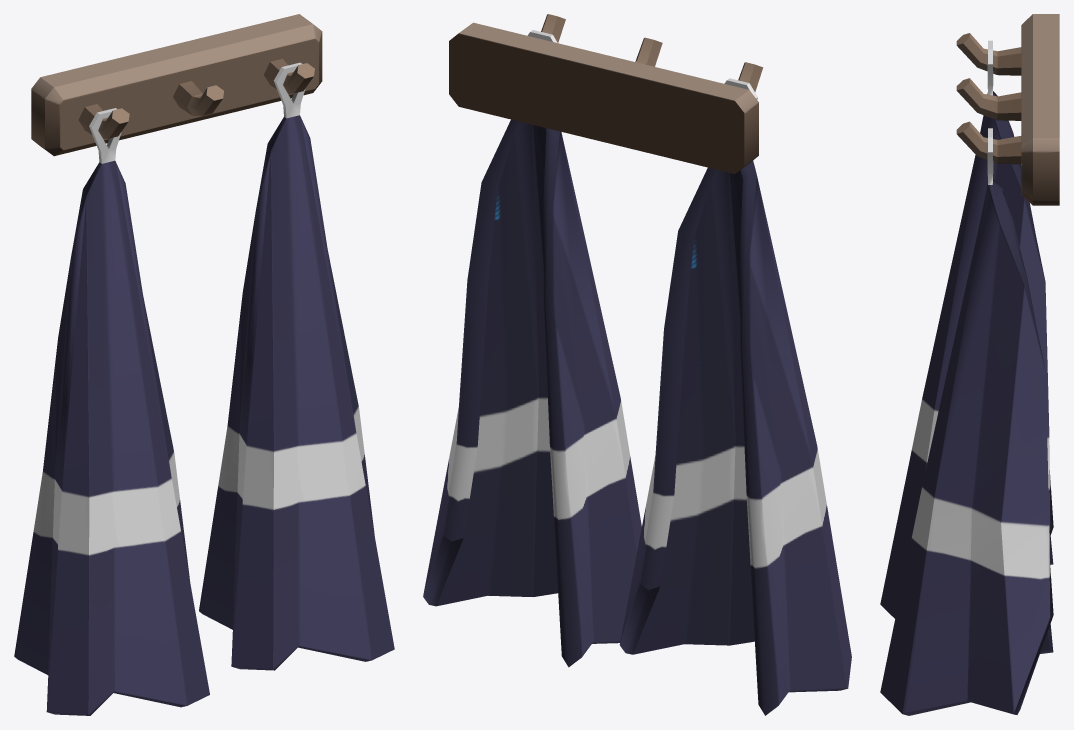
The model's file is housepack_holder_with_towels_1.FBX.
3 views of the same model, side by side, from view 1: azimuth 30°, elevation 25°; view 2: azimuth 150°, elevation 25°; view 3: azimuth 270°, elevation 25° (orthographic). The views are drawn at different scales.
Visible parts, largest first — view 1: housepack_holder_with_towels_1; view 2: housepack_holder_with_towels_1; view 3: housepack_holder_with_towels_1.
Boxes of the visible parts, box(x1,y1,x2,y2) form: housepack_holder_with_towels_1: box(14, 14, 394, 715); housepack_holder_with_towels_1: box(423, 14, 851, 715); housepack_holder_with_towels_1: box(880, 14, 1059, 715).
Bounding box in the file's own units: 38.38 × 58.63 × 16.62.
